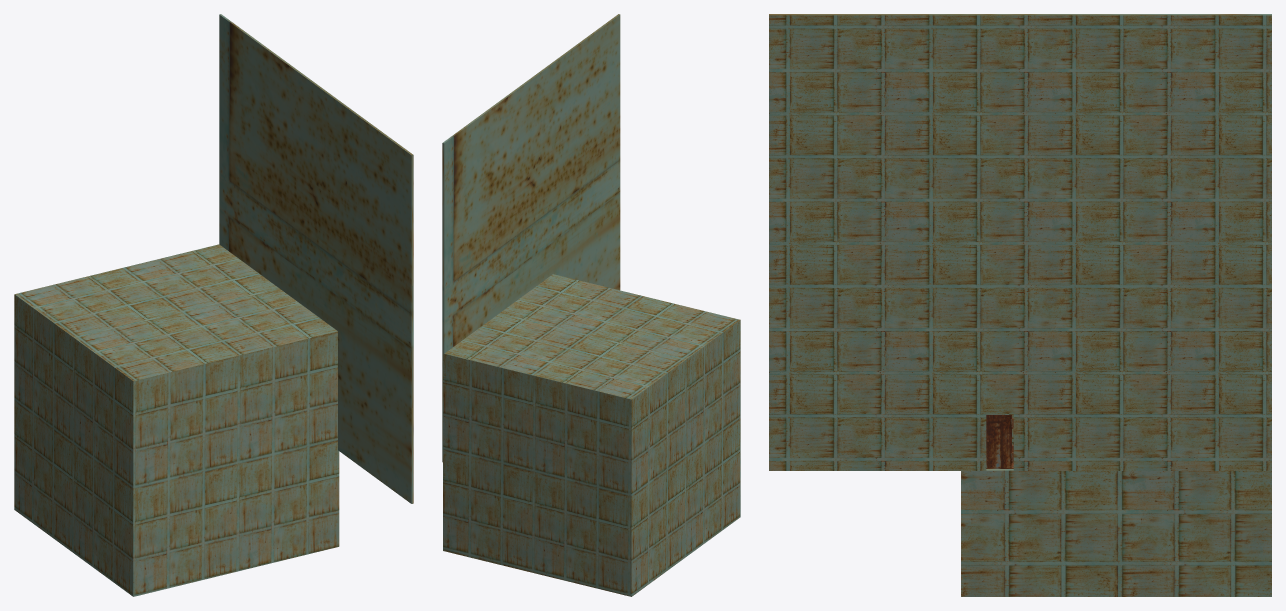
Rendered from TunnelSpecial01.fbx.
The picture shows the model from 3 angles, left to right: view 1: azimuth 30°, elevation 25°; view 2: azimuth 150°, elevation 25°; view 3: azimuth 270°, elevation 25°; orthographic projection. The views are drawn at different scales.
Visible parts, largest first — view 1: Cube; view 2: Cube; view 3: Cube, door.
Boxes of the visible parts, bbox=[...] form: Cube: bbox=[14, 14, 413, 596]; Cube: bbox=[442, 14, 740, 596]; Cube: bbox=[769, 14, 1271, 596]; door: bbox=[986, 415, 1013, 467].
Bounding box in the file's own units: 1240 × 2554 × 2000.
